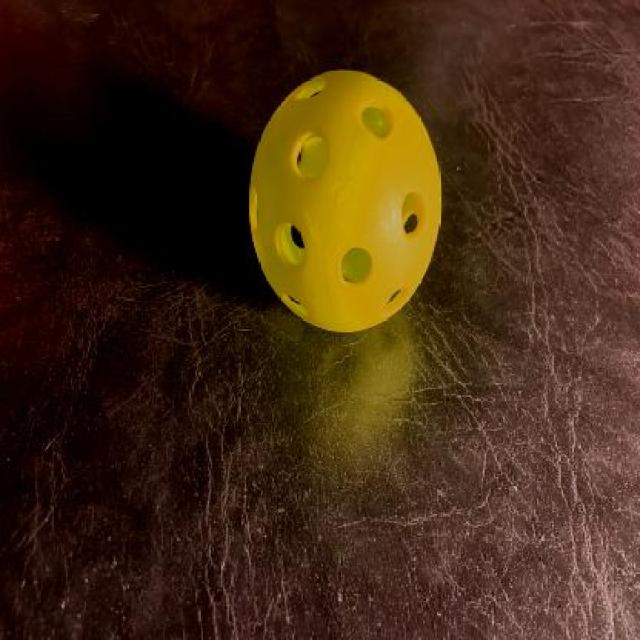ball: (247, 58, 450, 359)
